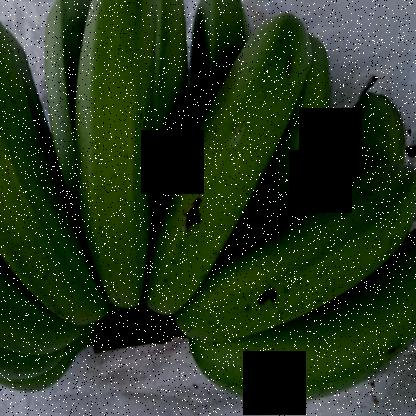freshunripe: (1, 0, 104, 334), (70, 0, 167, 313)
unripe: (142, 7, 316, 304), (183, 130, 416, 346), (196, 216, 416, 404)
